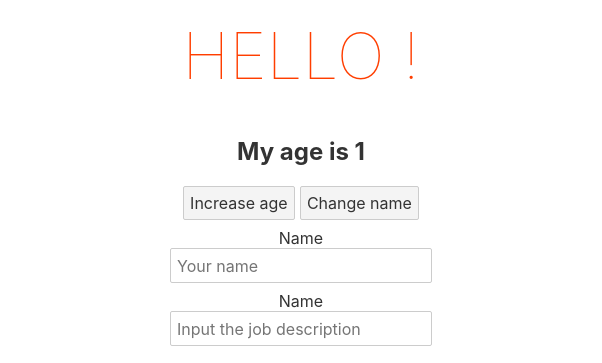
it: Changes name when change name button is clicked
This screenshot has width=602, height=363.
Click the button "Change name": {"x": 359, "y": 203} [300,186,419,220]
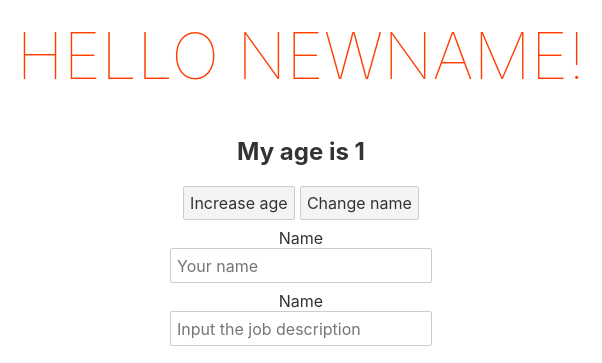
Expected: the heading "Hello newName!" is shown, [17,17,585,94]
